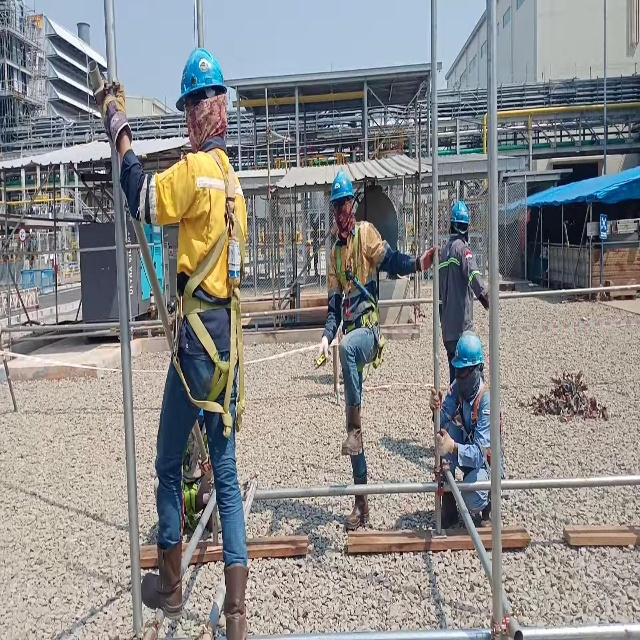Arnes_seguridad: (170, 148, 248, 434), (331, 218, 384, 379), (454, 376, 491, 470)
